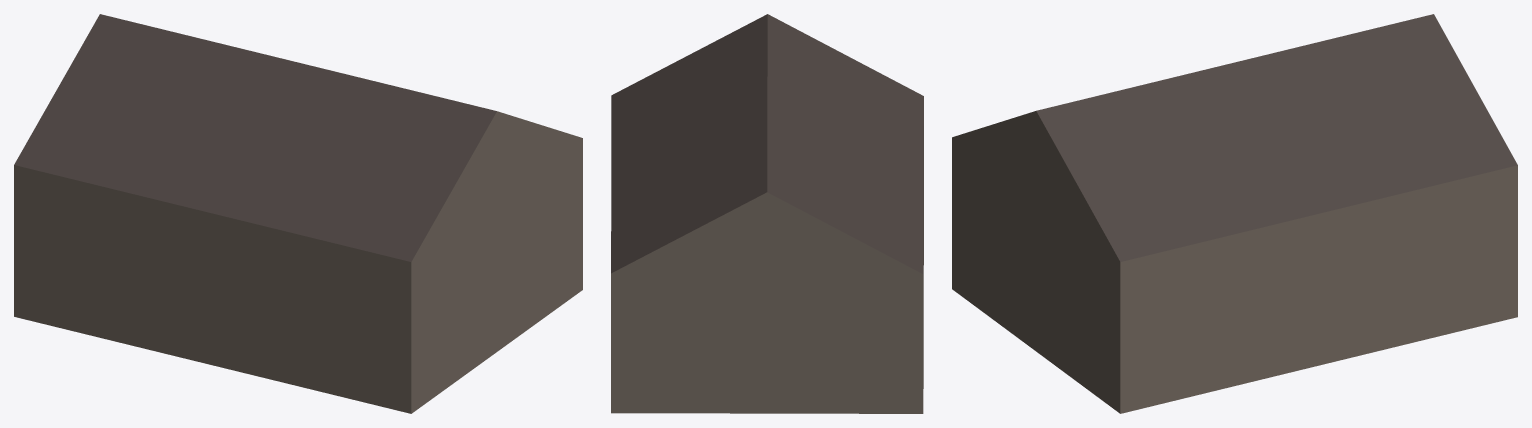
The picture shows the model from 3 angles, left to right: view 1: azimuth 30°, elevation 25°; view 2: azimuth 150°, elevation 25°; view 3: azimuth 270°, elevation 25°; orthographic projection. The views are drawn at different scales.
Visible parts, largest first — view 1: HP-w369237973; view 2: HP-w369237973; view 3: HP-w369237973.
Part boxes in pixels (x1,y1,x2,y2): HP-w369237973: [14, 14, 582, 413]; HP-w369237973: [611, 14, 923, 413]; HP-w369237973: [952, 14, 1517, 413].
Bounding box in the file's own units: 18.78 × 9.51 × 20.27.
